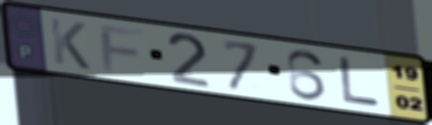2: (166, 32, 212, 90)
6: (284, 47, 328, 102)
7: (222, 39, 262, 92)
F: (97, 23, 148, 75)
K: (46, 15, 93, 72)
L: (335, 54, 384, 108)
